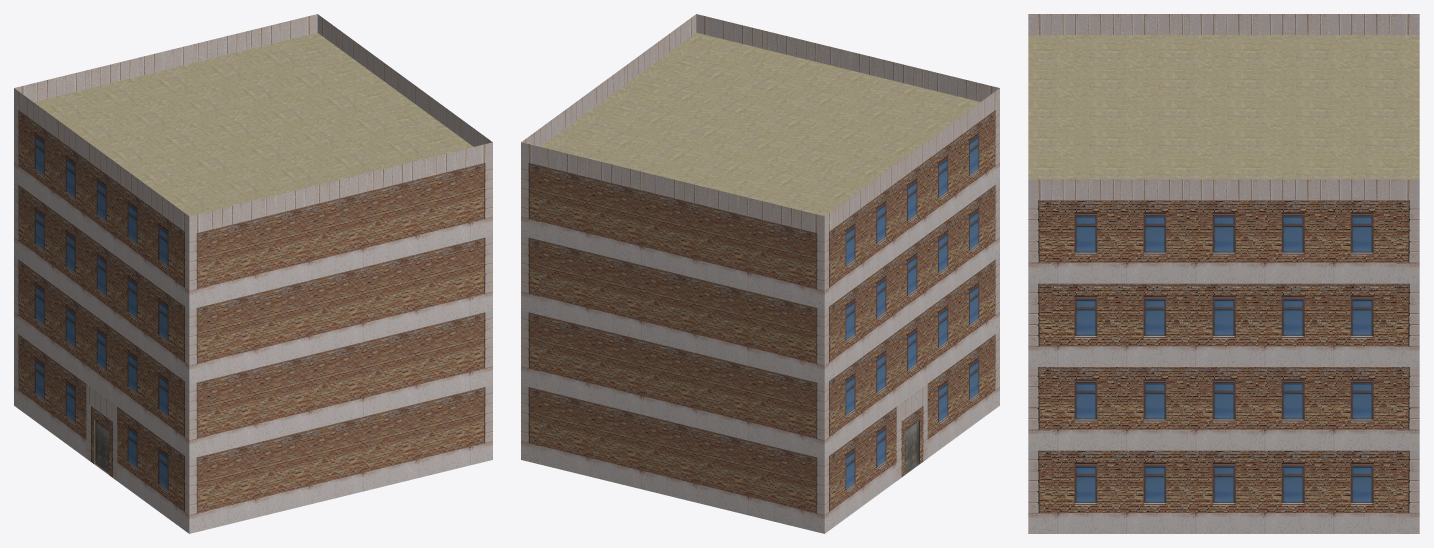
Rendered from flat_square_brick_alt.glb.
3 views of the same model, side by side, from view 1: azimuth 30°, elevation 25°; view 2: azimuth 150°, elevation 25°; view 3: azimuth 270°, elevation 25° (orthographic). The views are drawn at different scales.
Visible parts, largest first — view 1: flat_square_brick_alt; view 2: flat_square_brick_alt; view 3: flat_square_brick_alt.
Part boxes in pixels (x1,y1,x2,y2): flat_square_brick_alt: (14, 14, 492, 533); flat_square_brick_alt: (521, 14, 999, 533); flat_square_brick_alt: (1028, 14, 1419, 533).
Size of the model in its own units: 17 by 17 by 17.
1 material, 1 textured.
